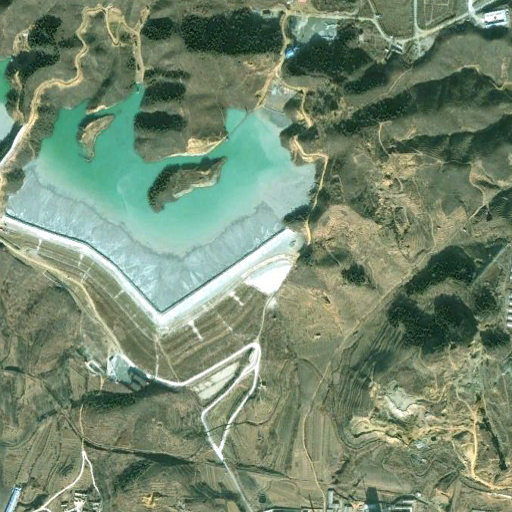tp: (6, 84, 318, 386)
